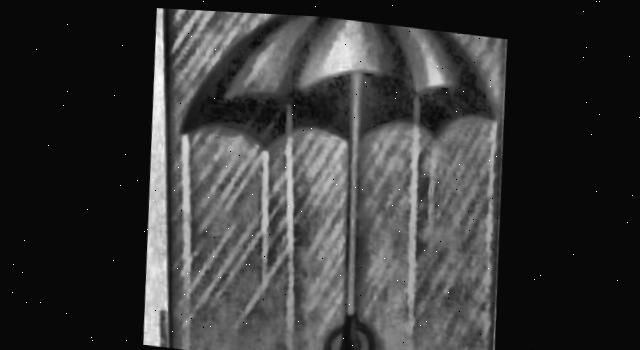El Paraguas: (166, 7, 505, 350)
